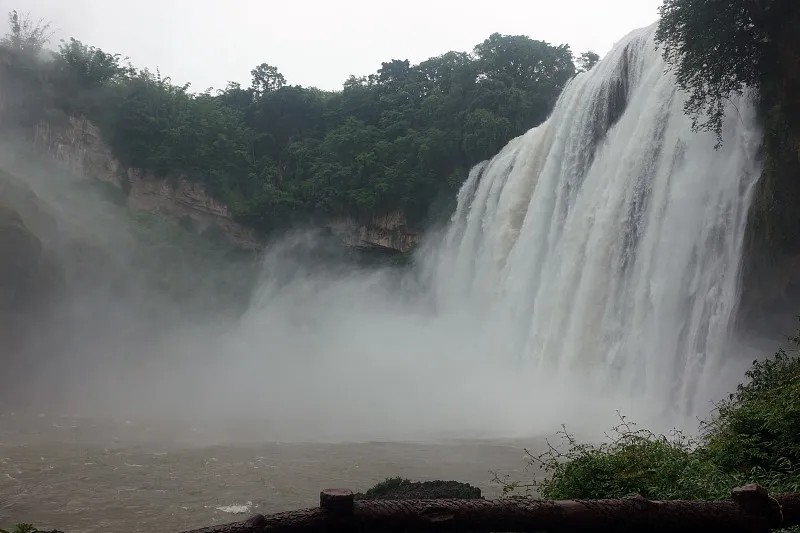Huangguoshu: (449, 17, 763, 440)
